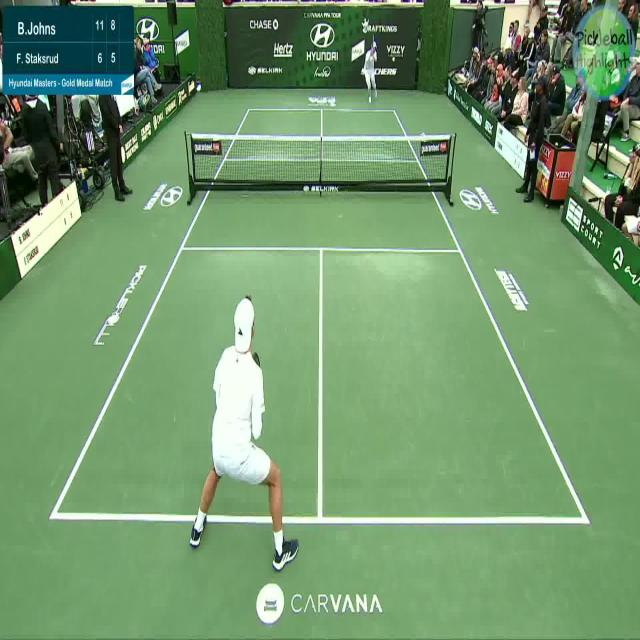ball: (389, 53, 398, 67)
